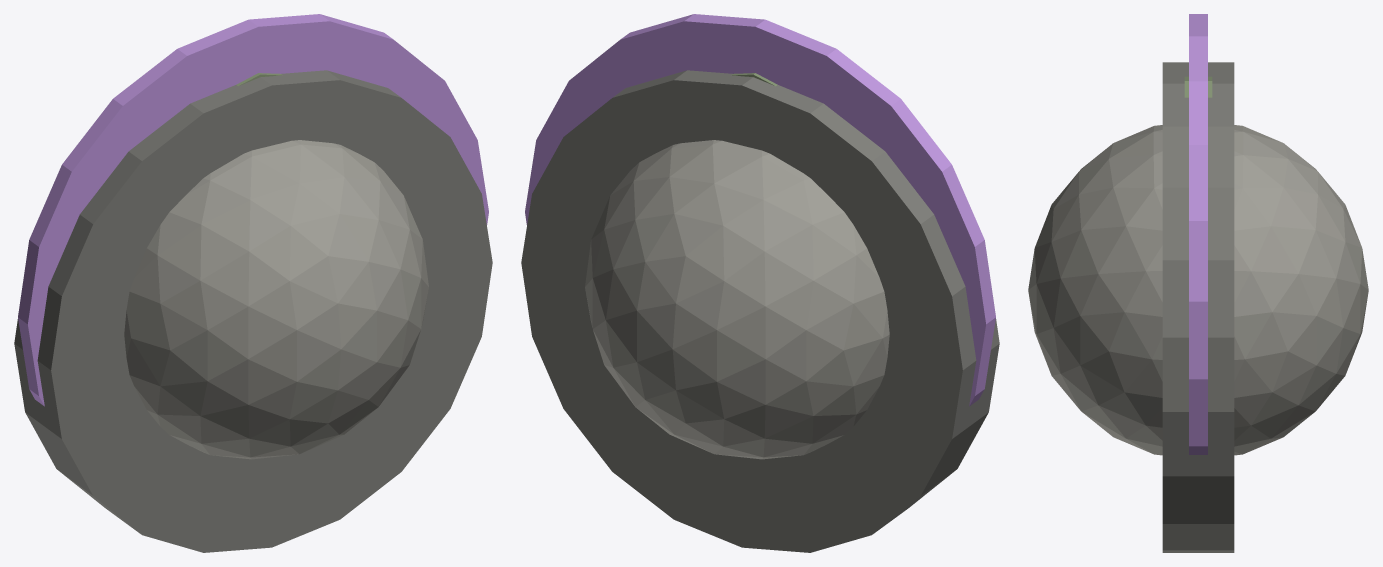
Rendered from bumper.glb.
3 renders of one model, left to right at view 1: azimuth 30°, elevation 25°; view 2: azimuth 150°, elevation 25°; view 3: azimuth 270°, elevation 25°, orthographic. The views are drawn at different scales.
Visible parts, largest first — view 1: geometry_0; view 2: geometry_0; view 3: geometry_0.
Boxes of the visible parts, box(x1,y1,x2,y2) form: geometry_0: box(14, 14, 492, 552); geometry_0: box(521, 14, 999, 552); geometry_0: box(1028, 14, 1368, 552).
Size of the model in its own units: 1.88 by 1.99 by 1.24.
